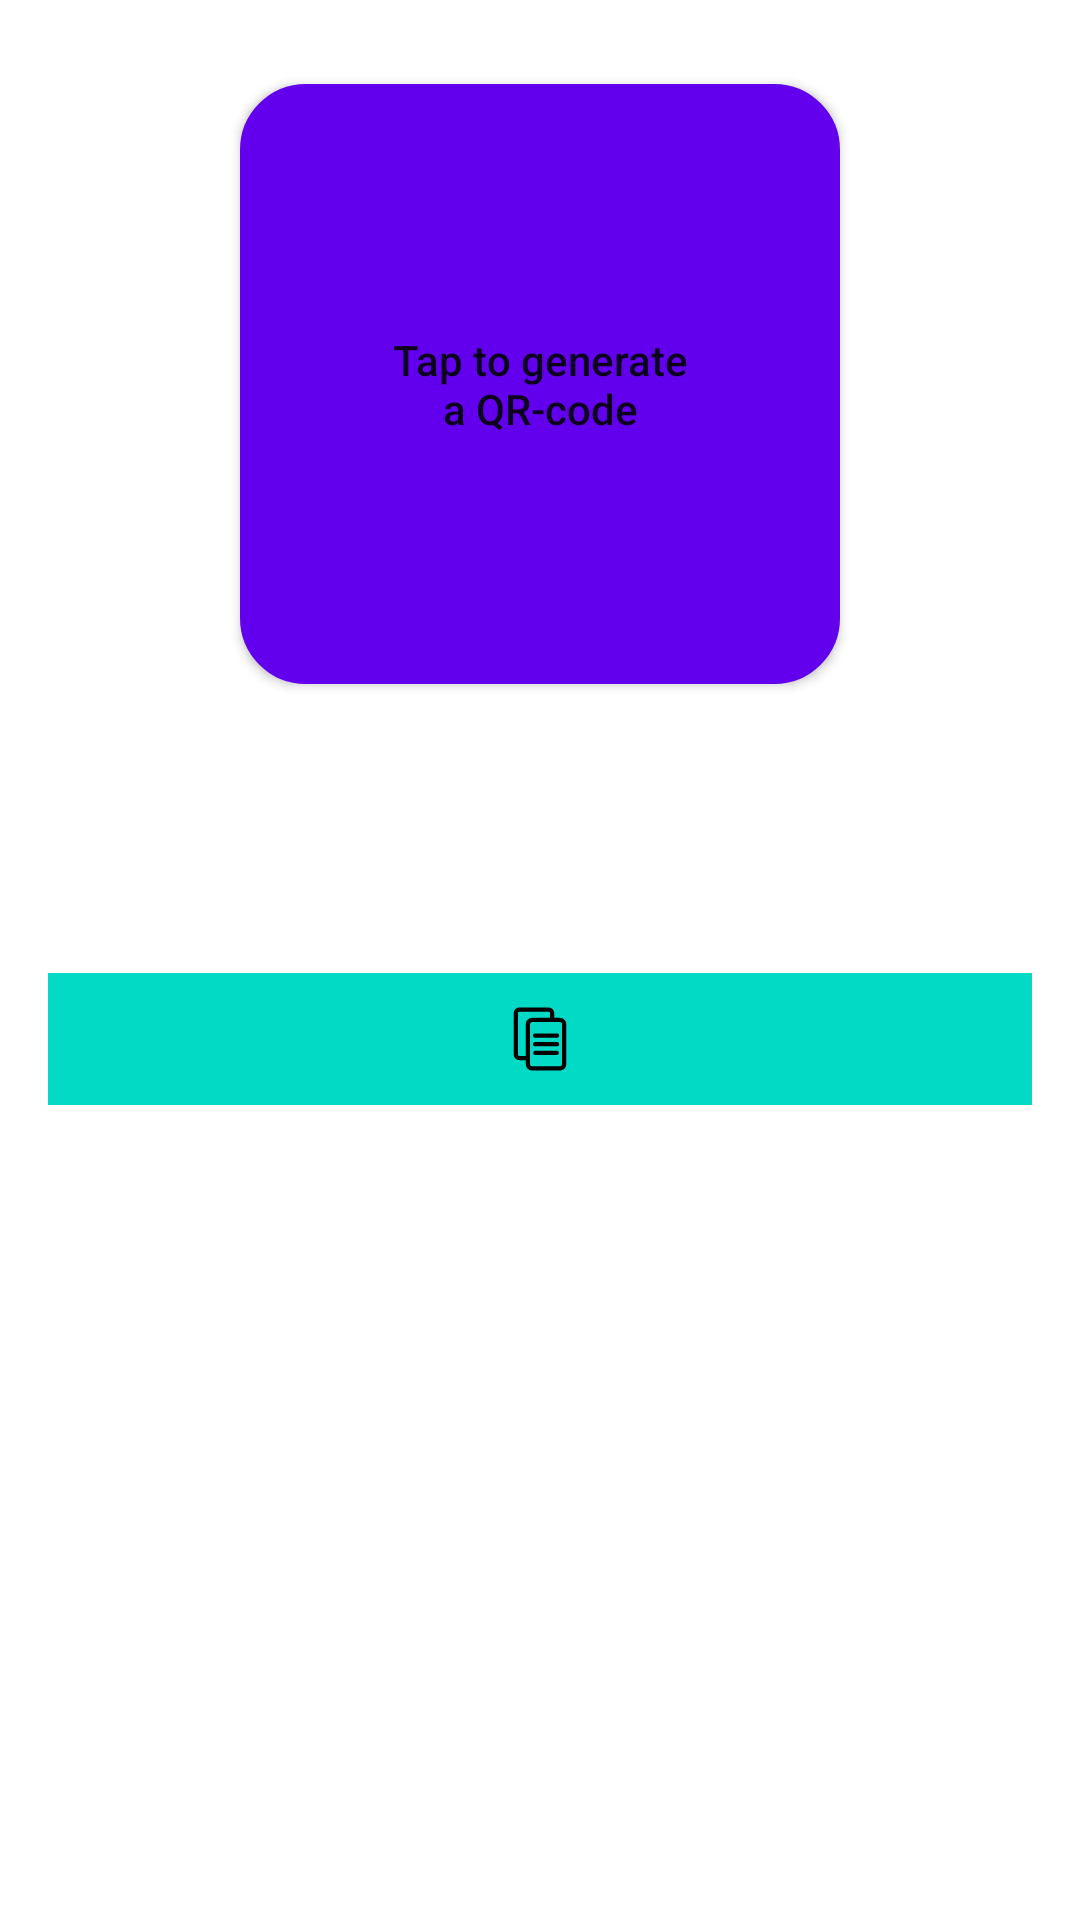

Icon bounding boxes for this 1080w x 1920h phone screenshot, format (x1,y1,x2,y2):
to clipboard: (513,1007,567,1071)
